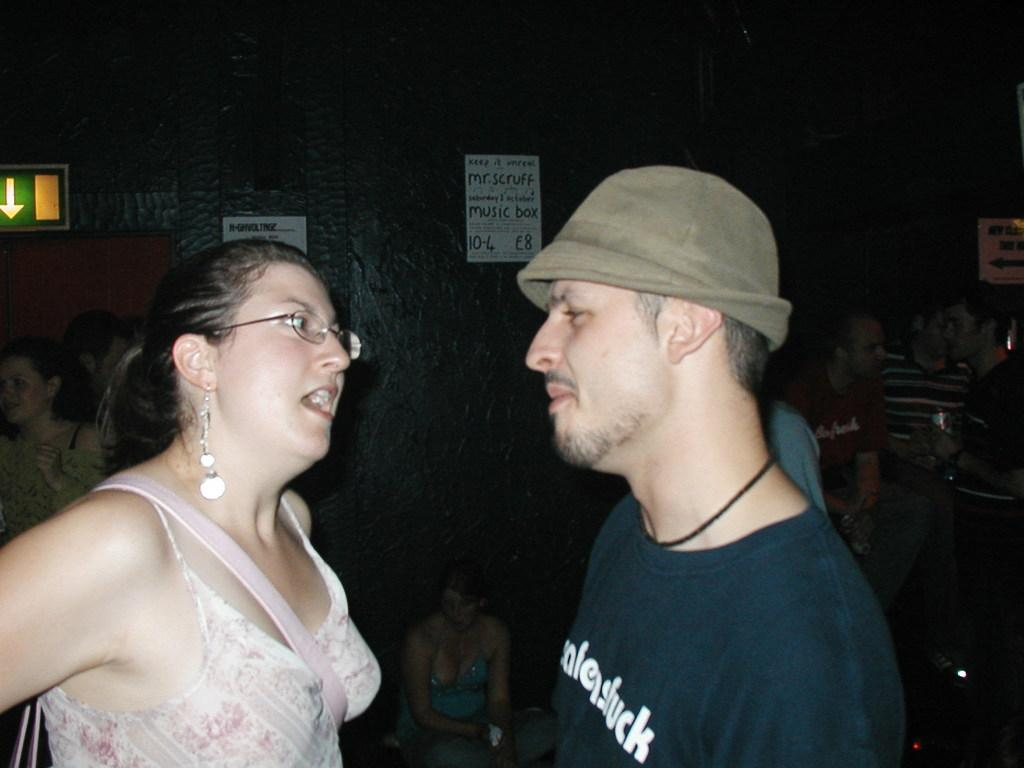Hat: (514, 161, 790, 343)
